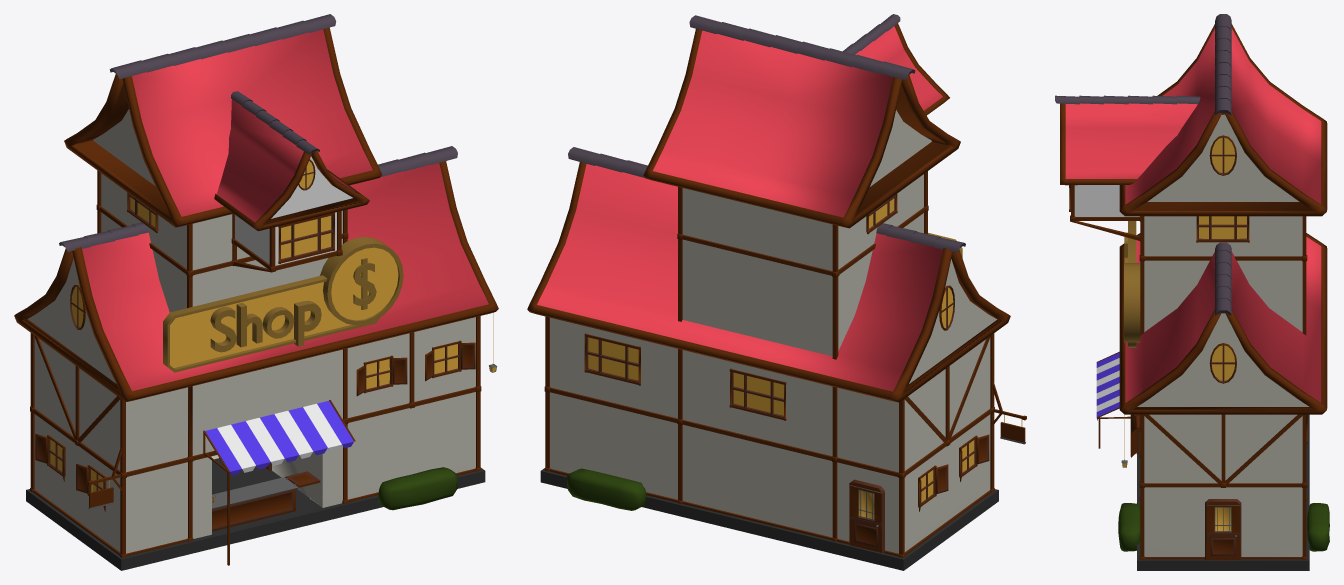
The model's file is ShopHouse.fbx.
The picture shows the model from 3 angles, left to right: view 1: azimuth 30°, elevation 25°; view 2: azimuth 150°, elevation 25°; view 3: azimuth 270°, elevation 25°; orthographic projection. The views are drawn at different scales.
Visible parts, largest first — view 1: Telhados, Base, PlacaDeLoja, EstruturaDaBorda, BaseSuperior, Chao, Lona, Telhas, JanelasPequenas, Balcao, JanelasGrandes, BaseJanela (+4 smaller); view 2: Telhados, Base, BaseSuperior, EstruturaDaBorda, Telhas, Chao, JanelasGrandes, Portas, Arbustos, JanelasPequenas, Placa; view 3: Telhados, Base, BaseSuperior, EstruturaDaBorda, Telhas, Chao, Portas, Arbustos, PlacaDeLoja, JanelasRedondas, JanelasGrandes, Lona (+2 smaller).
Boxes of the visible parts, box(x1,y1,x2,y2) form: Telhados: box(14, 27, 498, 401); Base: box(28, 258, 475, 553); PlacaDeLoja: box(163, 237, 403, 372); EstruturaDaBorda: box(30, 170, 481, 557); BaseSuperior: box(93, 109, 342, 312); Chao: box(26, 458, 485, 570); Lona: box(203, 400, 355, 565); Telhas: box(59, 14, 457, 251); JanelasPequenas: box(35, 340, 475, 511); Balcao: box(212, 477, 298, 531); JanelasGrandes: box(127, 192, 334, 263); BaseJanela: box(235, 156, 352, 265); Telhados: box(527, 23, 1010, 402); Base: box(550, 259, 996, 553); BaseSuperior: box(682, 110, 931, 356); EstruturaDaBorda: box(544, 171, 994, 557); Telhas: box(568, 14, 965, 252); Chao: box(540, 468, 998, 570); JanelasGrandes: box(584, 194, 897, 420); Portas: box(849, 479, 884, 553); Arbustos: box(566, 468, 646, 510); JanelasPequenas: box(918, 434, 989, 511); Placa: box(992, 382, 1026, 444); Telhados: box(1060, 24, 1327, 414); Base: box(1137, 313, 1309, 556); BaseSuperior: box(1144, 114, 1302, 331); EstruturaDaBorda: box(1070, 185, 1307, 559); Telhas: box(1055, 14, 1231, 315); Chao: box(1137, 414, 1309, 570); Portas: box(1205, 415, 1308, 560); Arbustos: box(1118, 503, 1329, 551); PlacaDeLoja: box(1124, 221, 1140, 347); JanelasRedondas: box(1209, 135, 1236, 383); JanelasGrandes: box(1069, 185, 1307, 443); Lona: box(1096, 351, 1130, 448).
Bounding box in the file's own units: 1500 × 1598 × 961.
